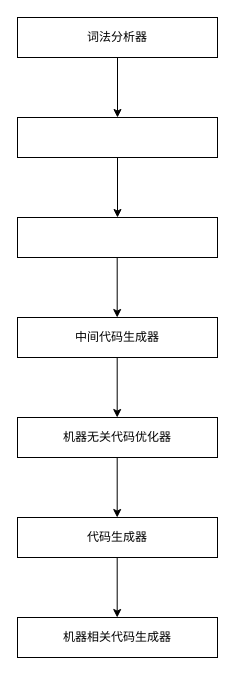
Some shapes in this 235 by 675 pixel diagram are drawn without their labels. Each missing label, with the centre of its shape:
语义分析器: point 117,237
语法分析器: point 117,137
